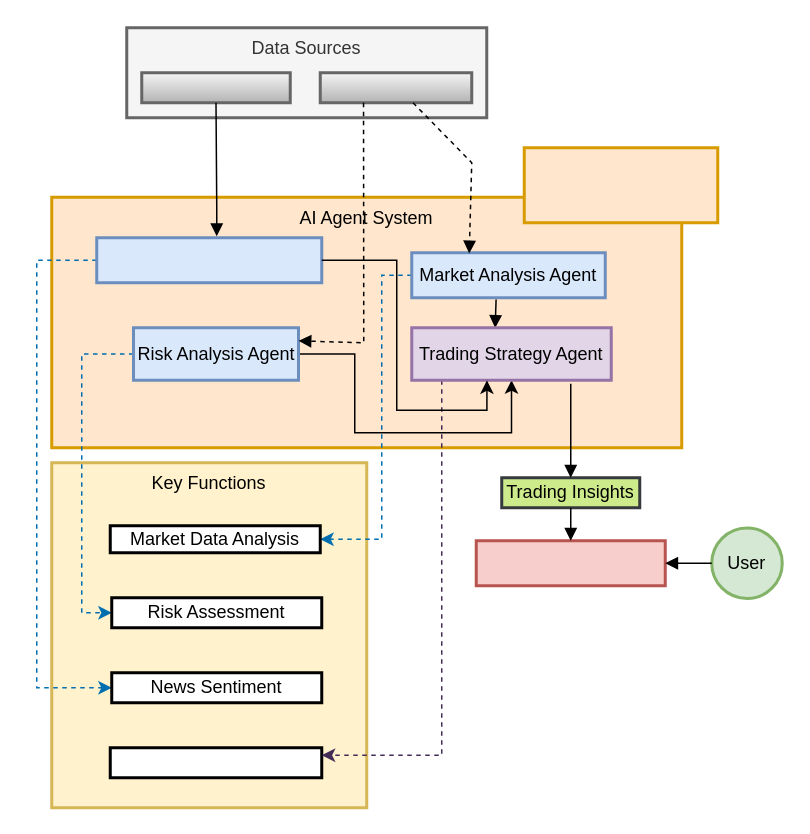
Some shapes in this 810 by 834 pixel diagram are drawn without their labels. The shapes that lost their labels are listed below. From the top down, each one's centre as x and y in pixels, then its label:
At pixel 215 87: "Market News".
At pixel 395 87: "Yahoo Finance".
At pixel 620 185: "Agent powered by SAMBANOVA Cloud Meta-Llama-3.1-70B".
At pixel 208 260: "Sentiment Analysis Agent".
At pixel 570 562: "Streamlit Dashboard".
At pixel 215 762: "Trading Signals".
